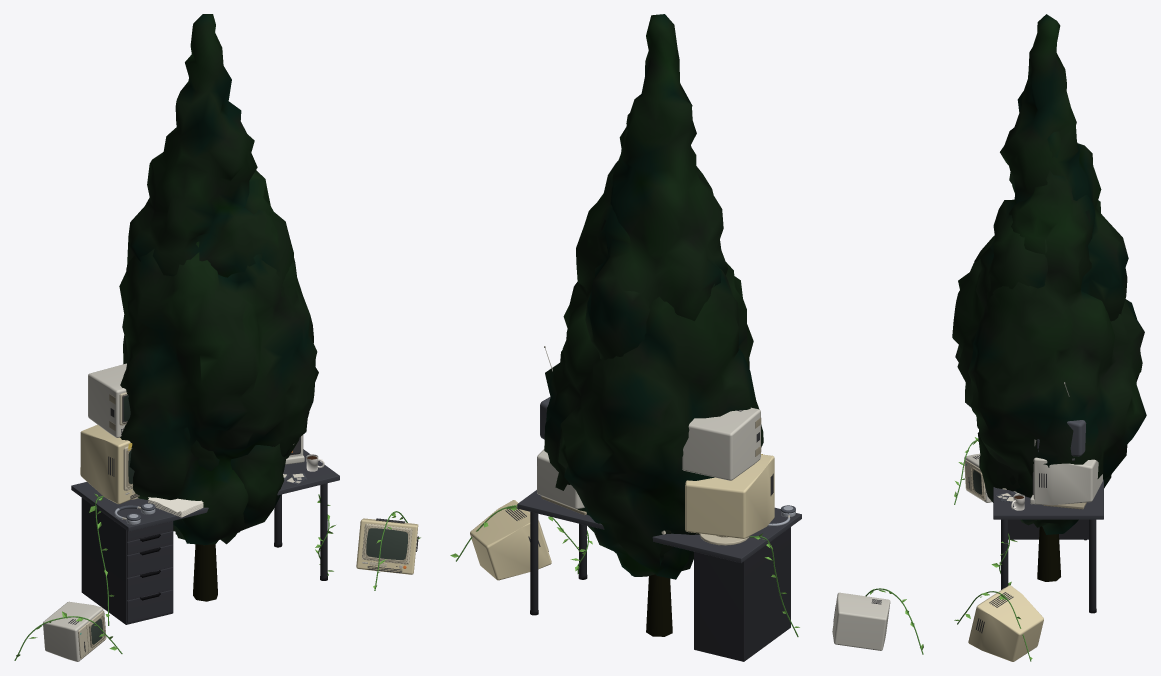
The picture shows the model from 3 angles, left to right: view 1: azimuth 30°, elevation 25°; view 2: azimuth 150°, elevation 25°; view 3: azimuth 270°, elevation 25°; orthographic projection. The views are drawn at different scales.
Visible parts, largest first — view 1: Cypress2, Cypress1, Desk, Float_big, Ground_R, Ground_L, Float_studio, Vines, Float_papers; view 2: Cypress2, Cypress1, Desk, Float_big, Float_studio, Ground_R, Ground_L, Float_term, Vines; view 3: Cypress2, Cypress1, Desk, Ground_R, Float_term, Ground_L, Vines, Float_tv.
Part boxes in pixels (bbox=[...]): Cypress2: bbox=[119, 170, 318, 601]; Cypress1: bbox=[127, 14, 293, 594]; Desk: bbox=[71, 449, 339, 624]; Float_big: bbox=[80, 424, 139, 504]; Ground_R: bbox=[356, 518, 418, 574]; Ground_L: bbox=[43, 601, 106, 661]; Float_studio: bbox=[88, 363, 130, 437]; Vines: bbox=[14, 493, 420, 660]; Float_papers: bbox=[148, 497, 203, 517]; Cypress2: bbox=[544, 126, 763, 636]; Cypress1: bbox=[585, 14, 741, 636]; Desk: bbox=[517, 490, 801, 661]; Float_big: bbox=[685, 454, 774, 545]; Float_studio: bbox=[682, 407, 761, 480]; Ground_R: bbox=[470, 500, 551, 580]; Ground_L: bbox=[832, 592, 890, 650]; Float_term: bbox=[537, 449, 586, 515]; Vines: bbox=[450, 505, 923, 654]; Cypress2: bbox=[952, 131, 1146, 581]; Cypress1: bbox=[977, 14, 1128, 580]; Desk: bbox=[993, 479, 1103, 613]; Ground_R: bbox=[968, 585, 1043, 661]; Float_term: bbox=[1030, 457, 1102, 509]; Ground_L: bbox=[964, 453, 991, 502]; Vines: bbox=[954, 437, 1032, 661]; Float_tv: bbox=[1034, 382, 1086, 460].
Size of the model in its own units: 3.23 by 4.21 by 1.32.
